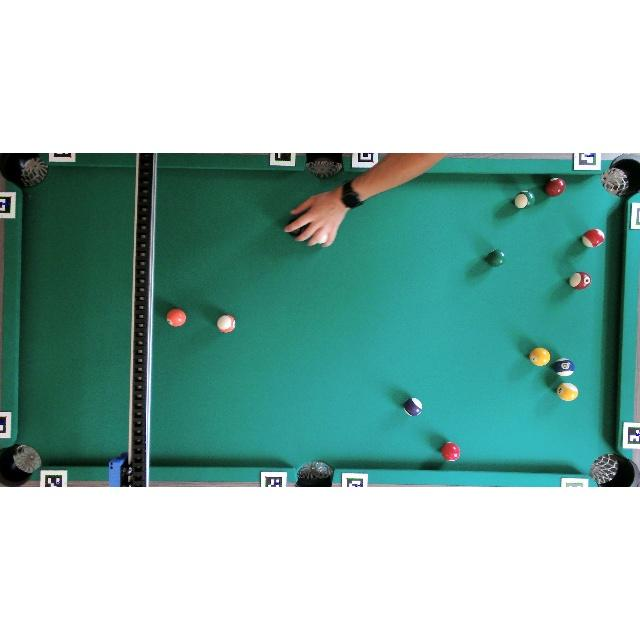other: (582, 228, 604, 248), (545, 176, 566, 196), (529, 348, 551, 367), (570, 271, 592, 290), (552, 359, 575, 377), (441, 441, 461, 461), (403, 397, 423, 417), (556, 383, 578, 401), (514, 190, 534, 209), (217, 314, 236, 333), (166, 309, 186, 327), (486, 249, 505, 267)
